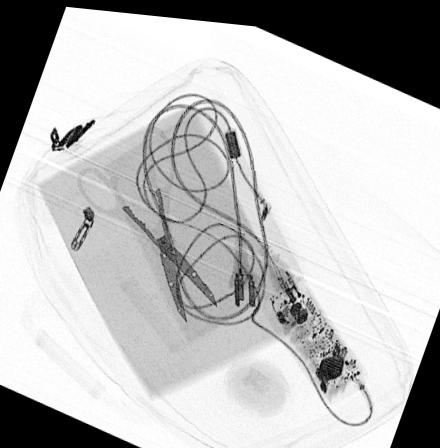Scissors: (74, 122, 217, 321)
